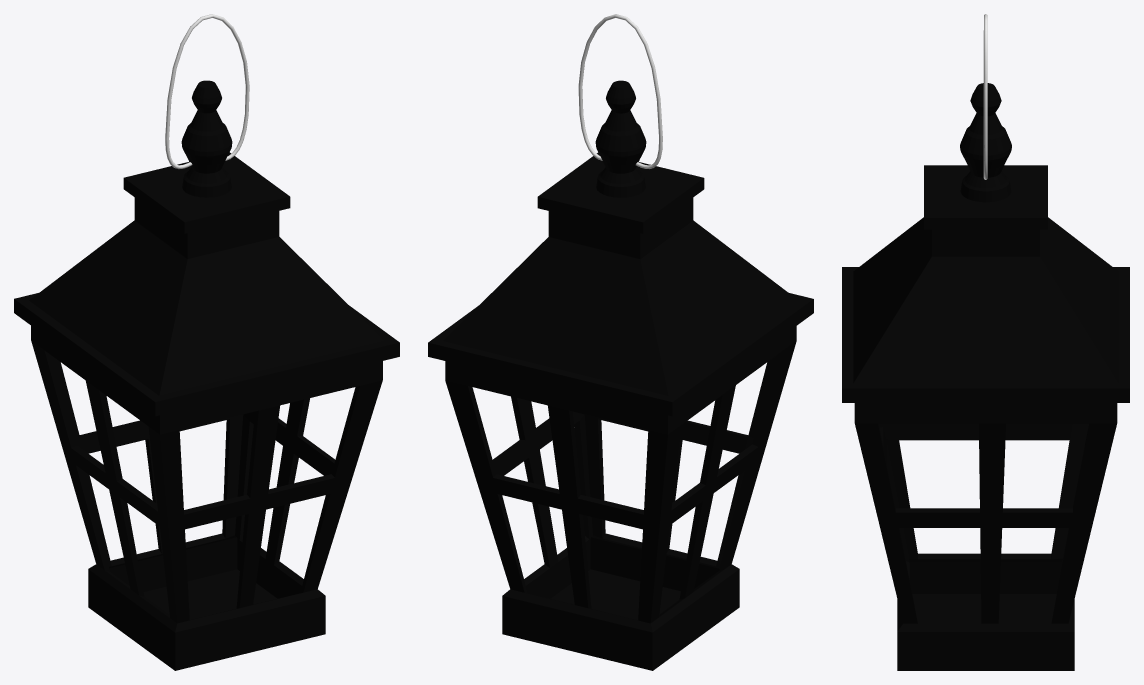
Rendered from LANTERA.fbx.
3 renders of one model, left to right at view 1: azimuth 30°, elevation 25°; view 2: azimuth 150°, elevation 25°; view 3: azimuth 270°, elevation 25°, orthographic.
Visible parts, largest first — view 1: Cube, BezierCurve; view 2: Cube, BezierCurve; view 3: Cube, BezierCurve.
Part boxes in pixels (x1,y1,x2,y2): Cube: (14,80,399,670); BezierCurve: (165,14,249,168); Cube: (428,80,813,670); BezierCurve: (578,14,662,168); Cube: (842,83,1129,670); BezierCurve: (983,14,987,179).
Size of the model in its own units: 144 by 341 by 144.
Materials: 1 (1 with a texture image).
